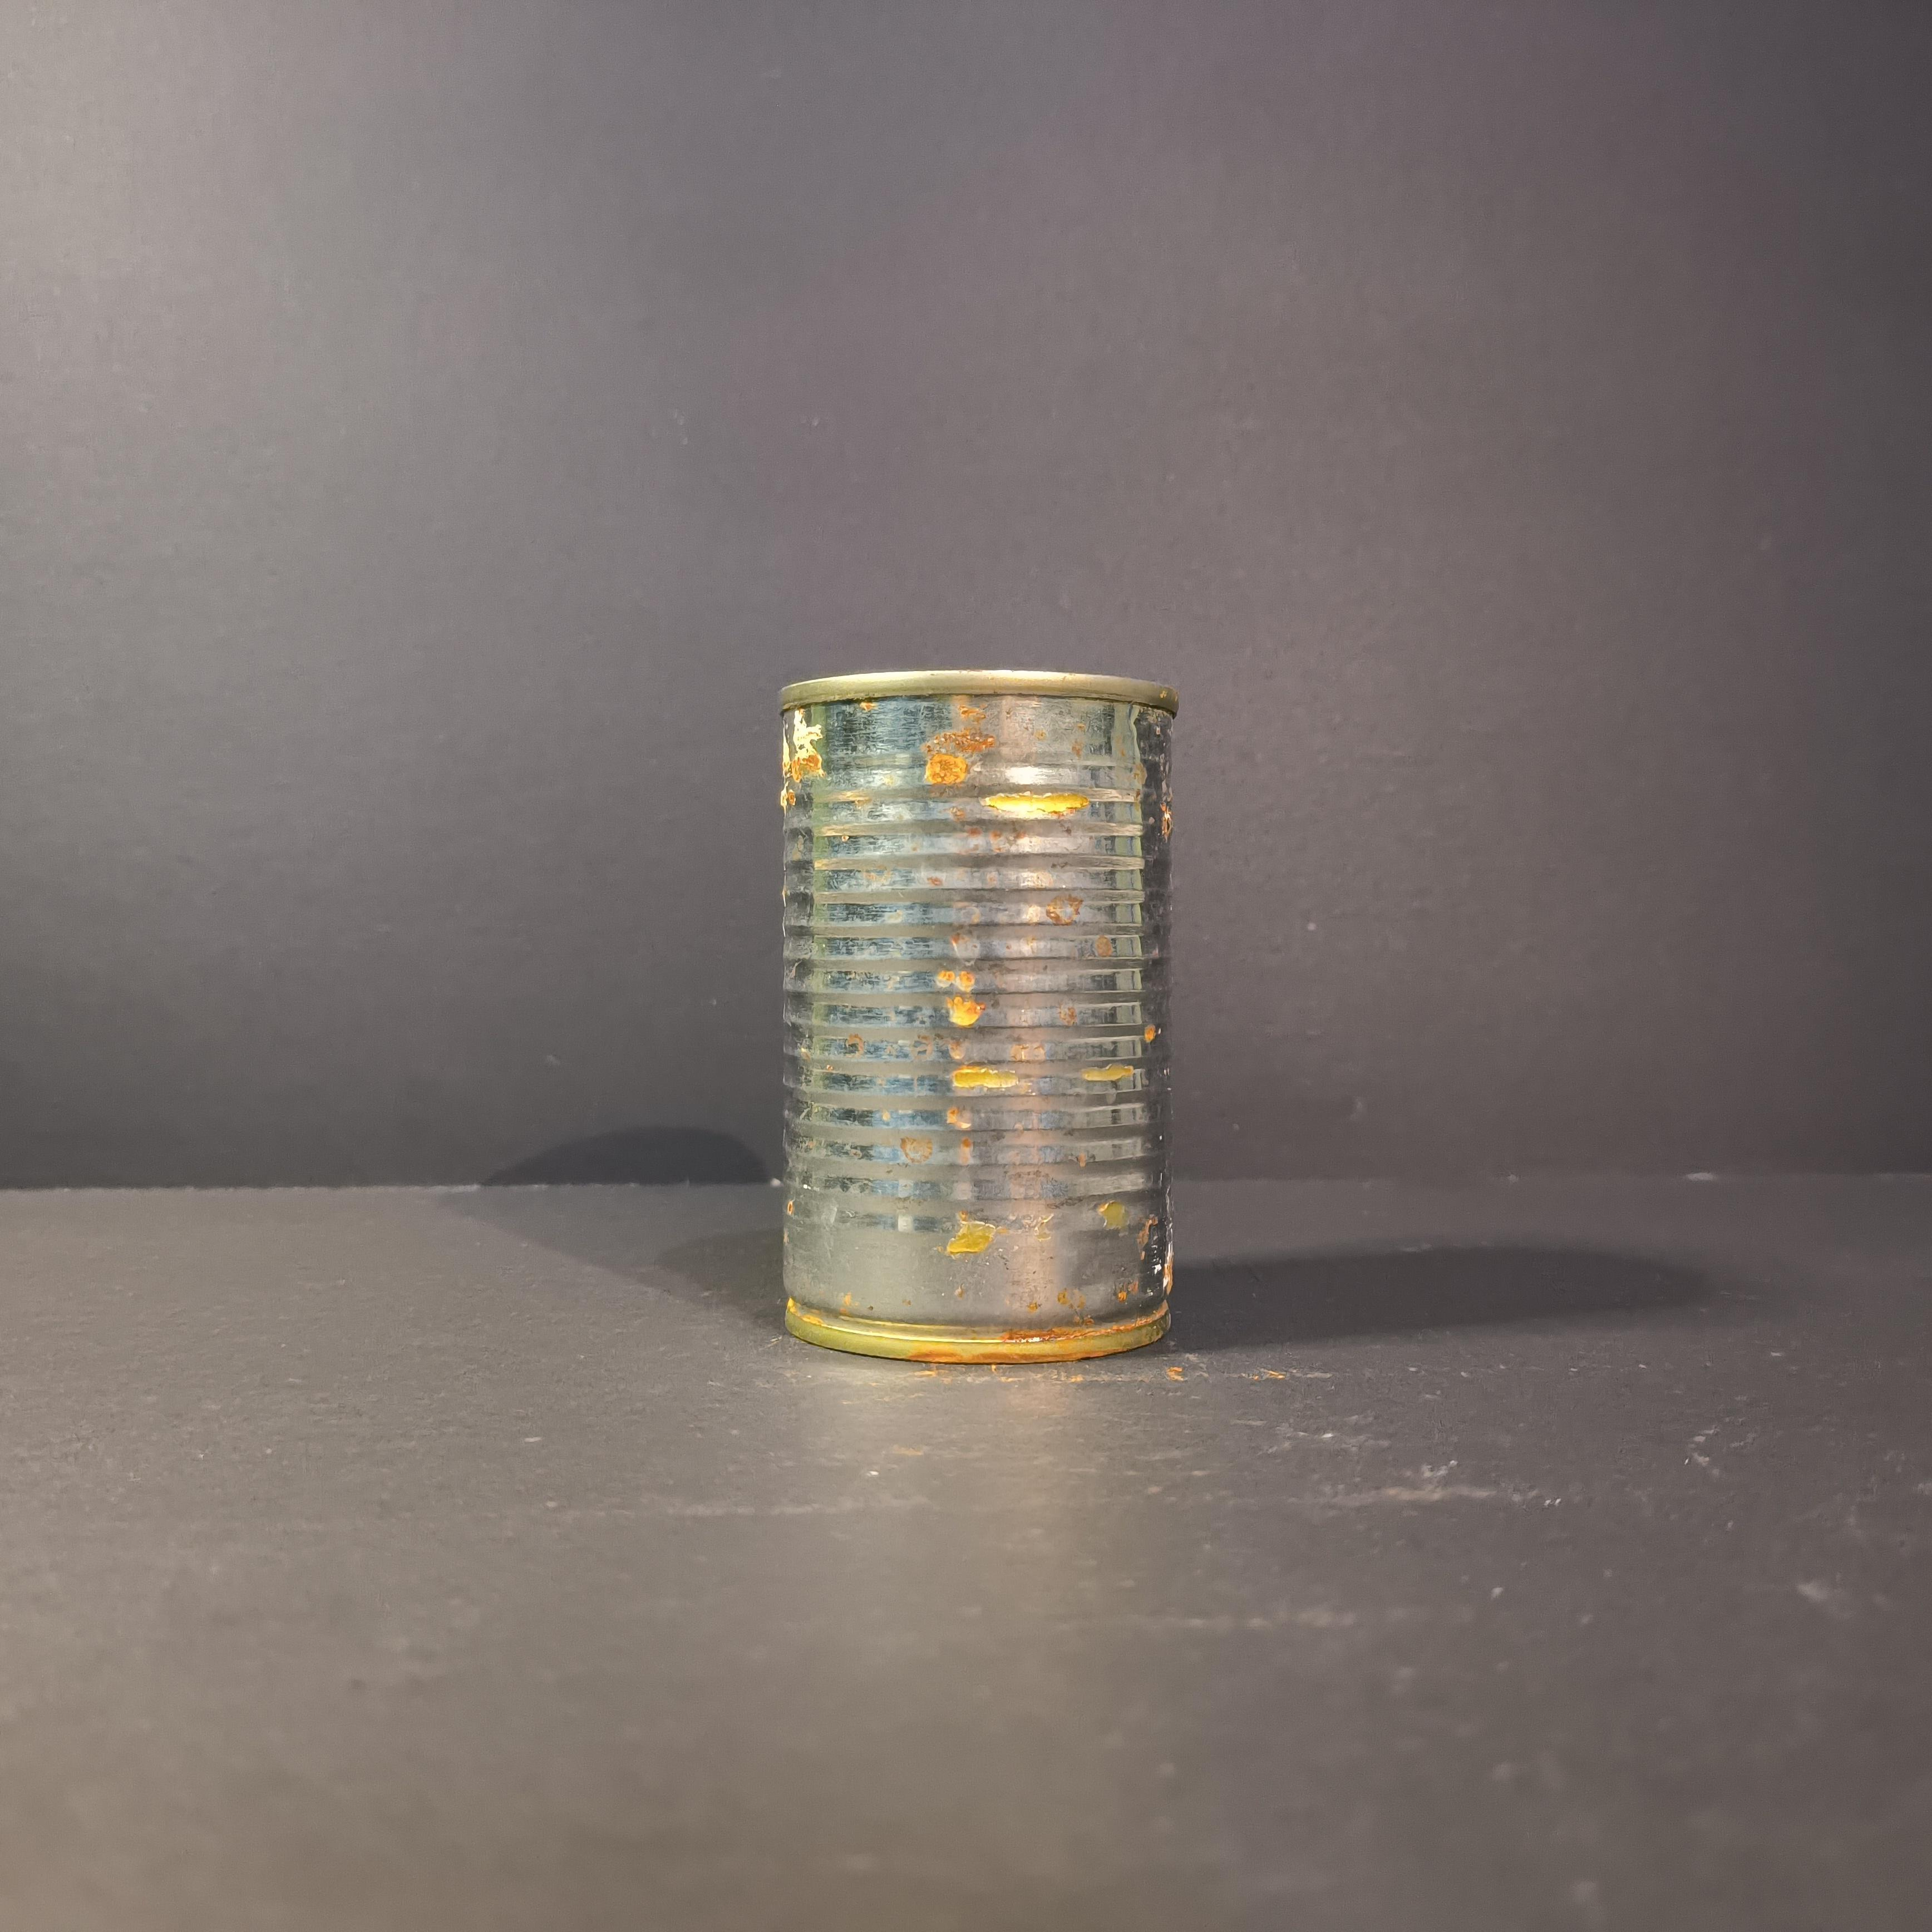Rusted: (748, 660, 1214, 1385)
